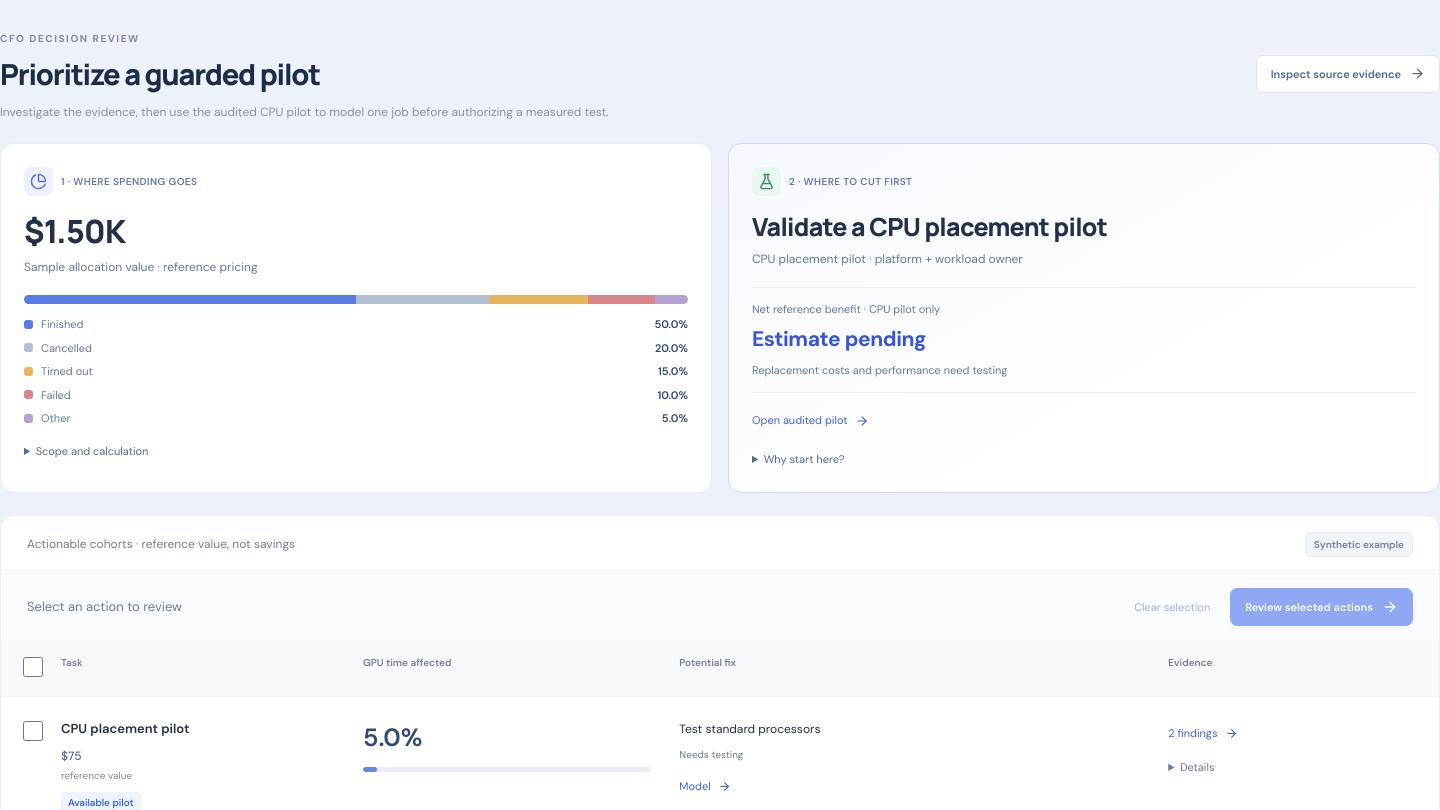
Scenario: decision table interactions › keeps non-built tasks disabled and preserves the CPU selection after a backend error
Check: the row named "Select CPU placement pilot" shows "$75", box [61, 748, 82, 764]
Check: the text "reference value" is shown, box [61, 769, 132, 782]
Click the checkbox named "Select CPU placement pilot".
click(33, 731)  # box [23, 721, 43, 741]
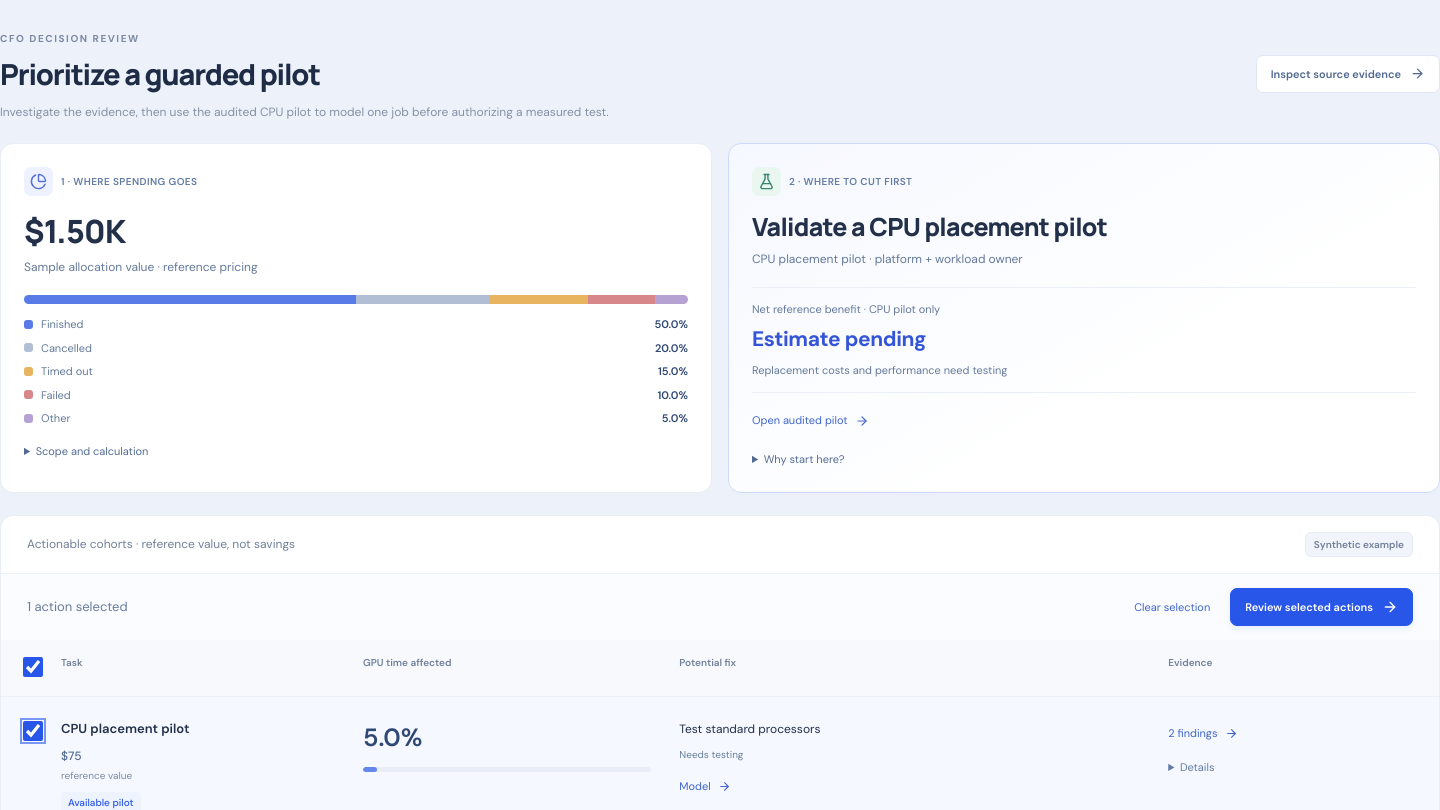
Check: the text "What could go wrong?" is not shown
Check: the button "Review selected actions" is enabled
Click the button "Review selected actions".
click(1322, 607)  # box [1230, 588, 1413, 626]
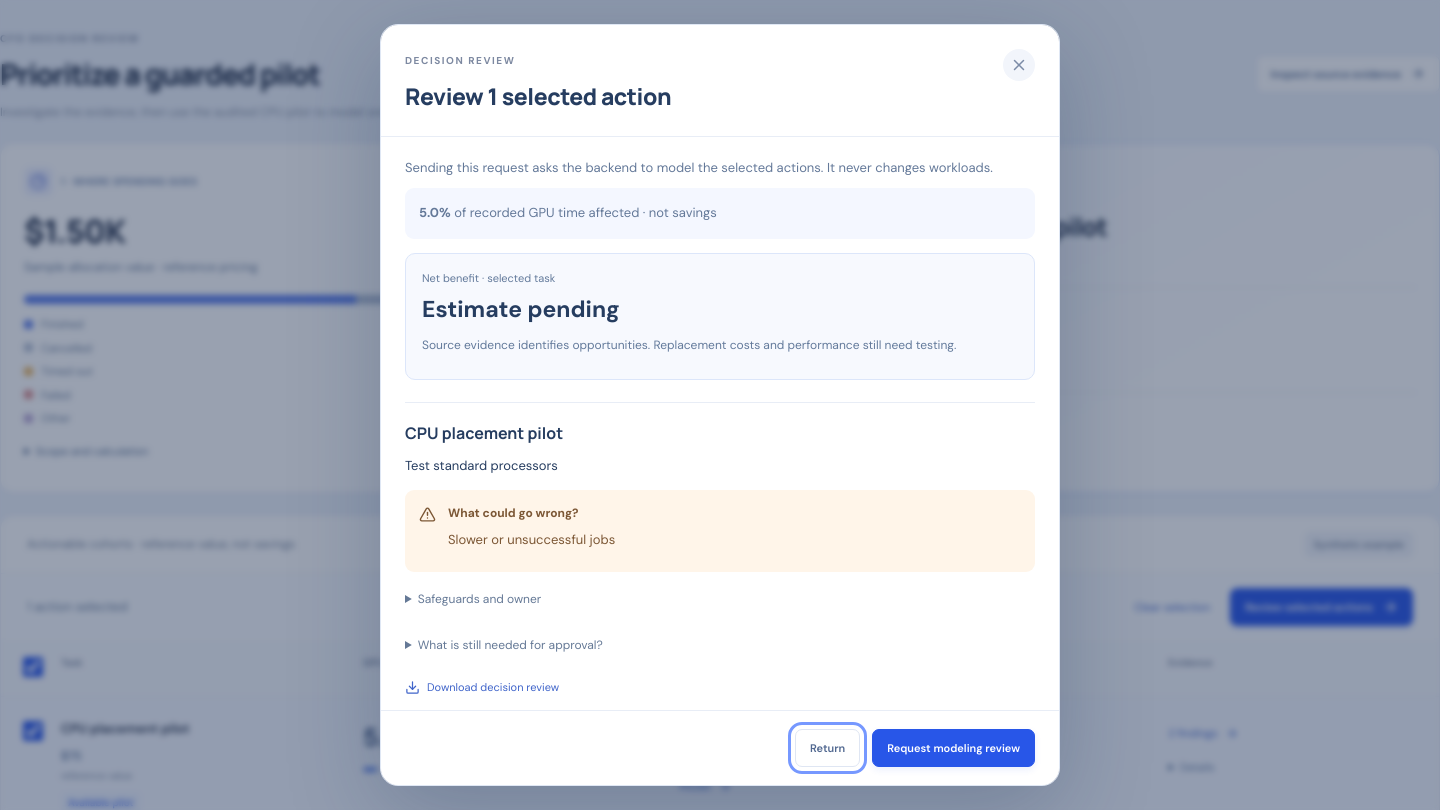
Check: the text "5.0%" is shown, box [419, 204, 451, 221]
Check: the number of headings "What could go wrong?" is 1, box [448, 505, 578, 521]
Click the button "Return".
click(828, 748)  # box [795, 728, 860, 767]
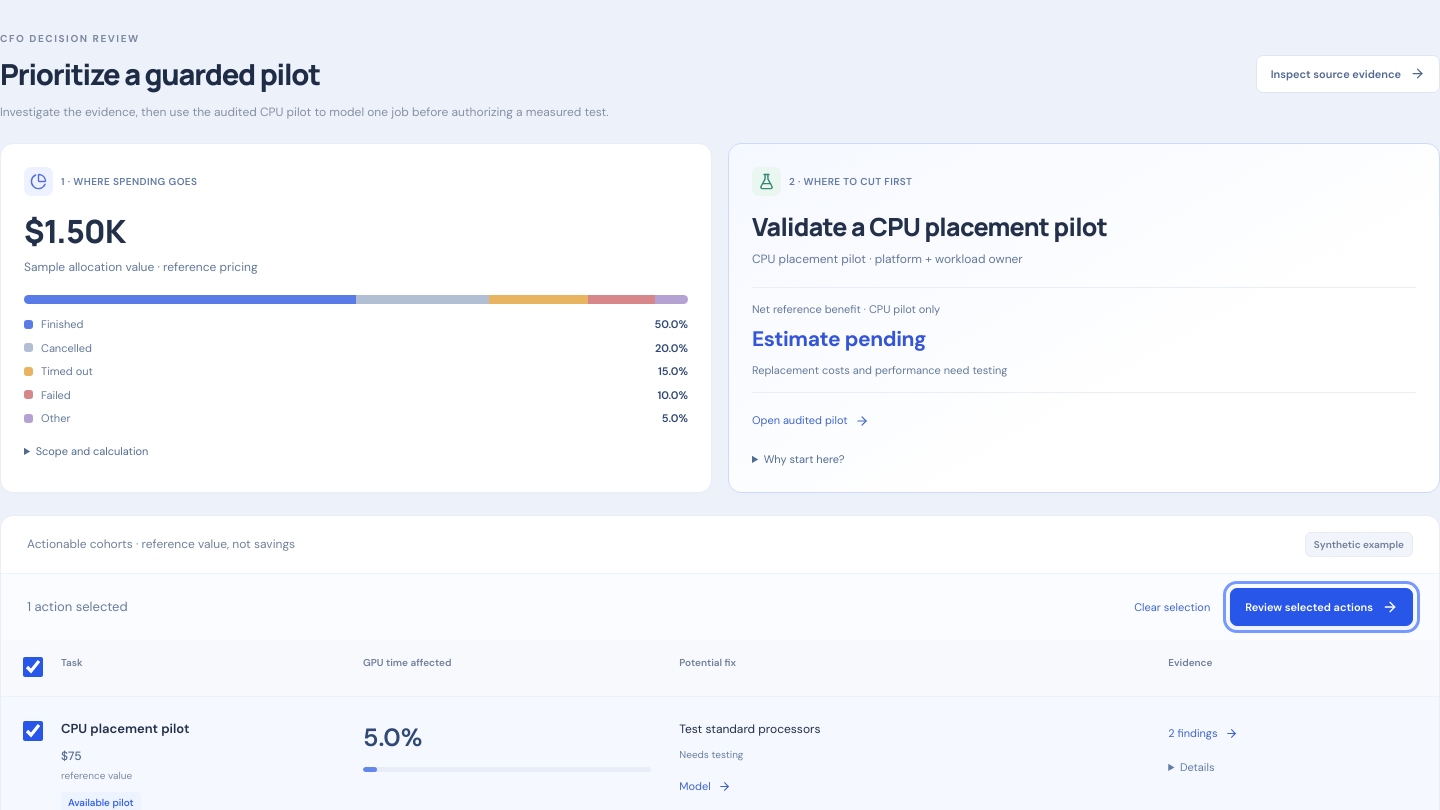
Check: the checkbox named "Select CPU placement pilot" is checked, box [23, 721, 43, 741]
Check: the dialog is gone
Click the button "Review selected actions".
click(1322, 607)  # box [1230, 588, 1413, 626]
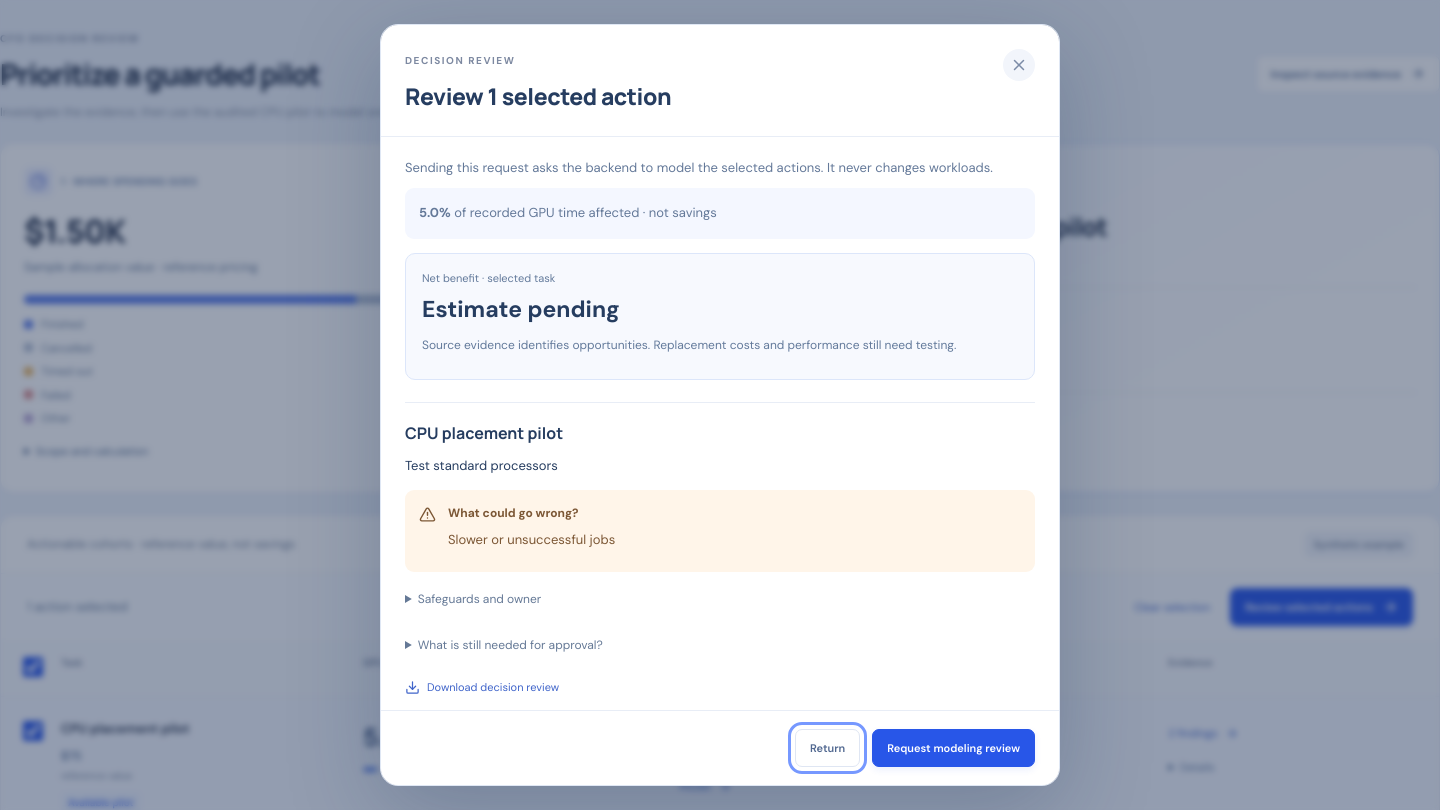
Click the button "Request modeling review".
click(954, 748)  # box [872, 728, 1035, 767]
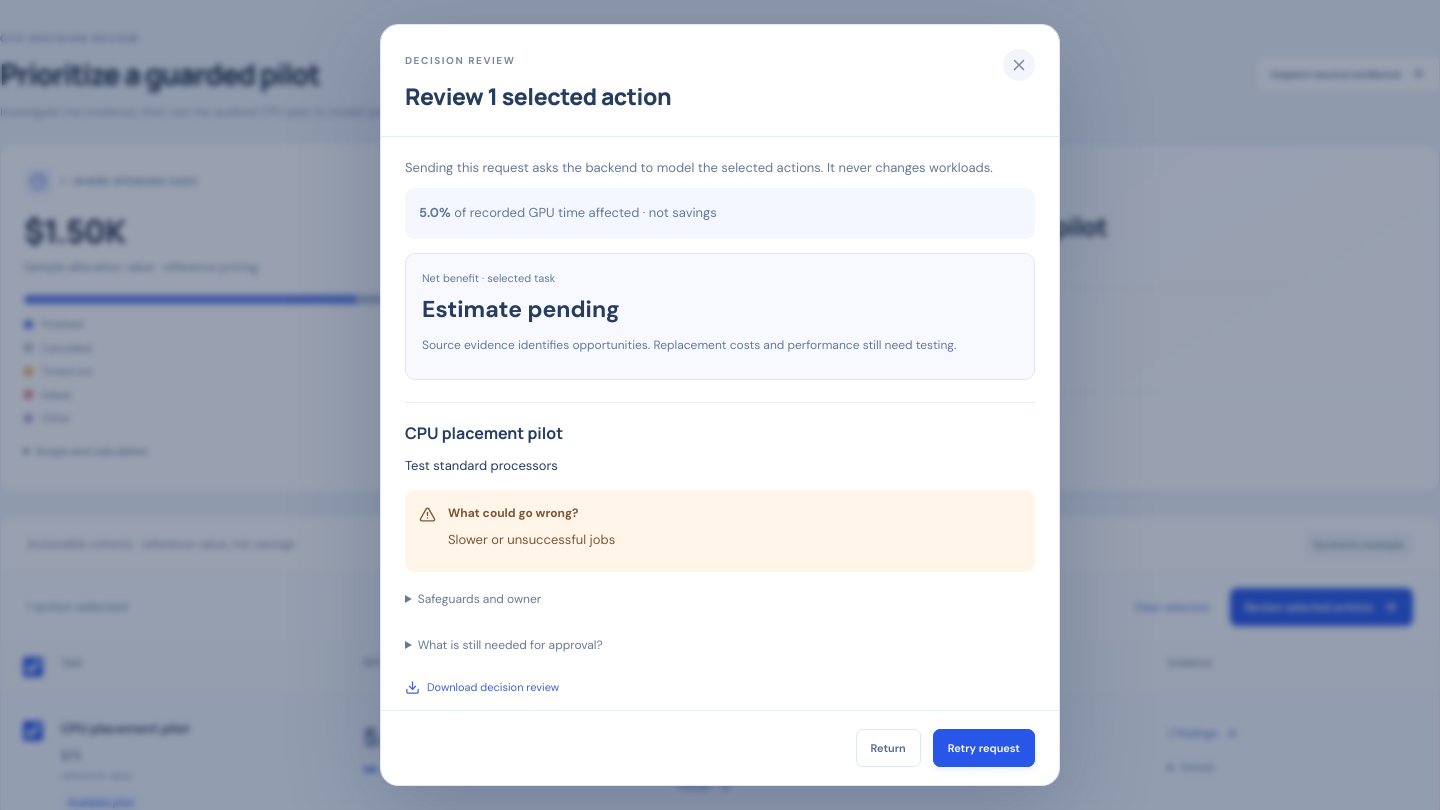
Check: the message shows "Backend unavailable", box [451, 772, 563, 786]
Click the button "Retry request".
click(984, 748)  # box [933, 728, 1035, 767]
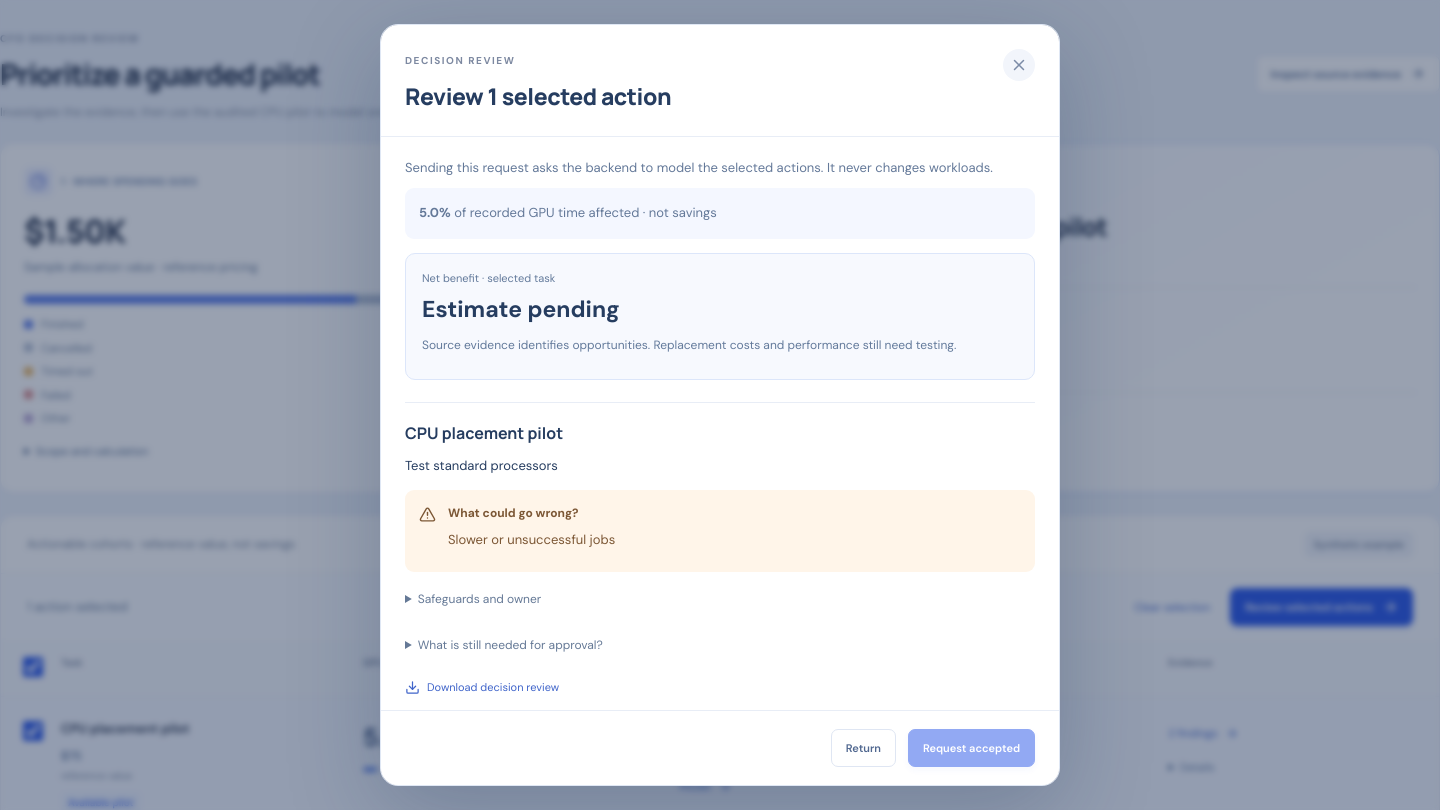
Check: the button "Request accepted" is disabled, box [908, 728, 1035, 767]
